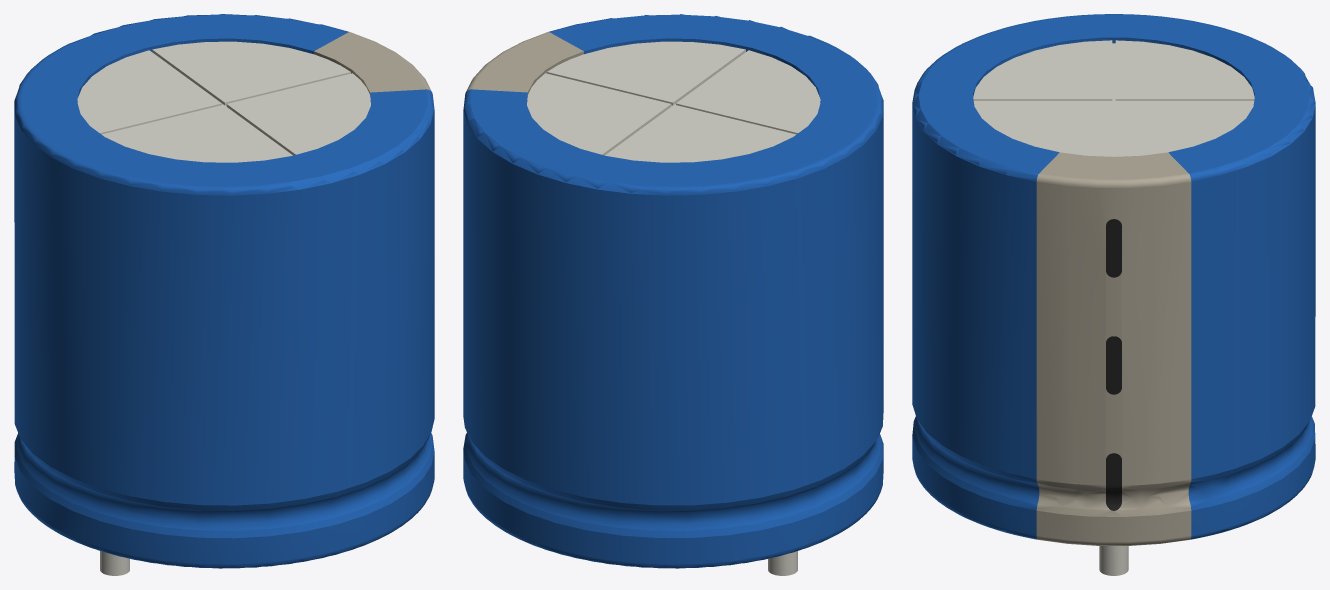
The model's file is kc-cp_radial_d12.5mm_p7.50mm.glb.
The picture shows the model from 3 angles, left to right: view 1: azimuth 30°, elevation 25°; view 2: azimuth 150°, elevation 25°; view 3: azimuth 270°, elevation 25°; orthographic projection. The views are drawn at different scales.
Visible parts, largest first — view 1: 0_0.16666666666666666_0.5_0, 0.6666666666666666_0.6666666666666666_0.5833333333333334_0.8, 0.4166666666666667_0.4166666666666667_0.3333333333333333_0; view 2: 0_0.16666666666666666_0.5_0, 0.6666666666666666_0.6666666666666666_0.5833333333333334_0.8, 0.4166666666666667_0.4166666666666667_0.3333333333333333_0; view 3: 0_0.16666666666666666_0.5_0, 0.4166666666666667_0.4166666666666667_0.3333333333333333_0, 0.6666666666666666_0.6666666666666666_0.5833333333333334_0.8, 0_0_0_0.
Boxes of the visible parts, x1=… form: 0_0.16666666666666666_0.5_0: x1=14, y1=14, x2=434, y2=568; 0.6666666666666666_0.6666666666666666_0.5833333333333334_0.8: x1=77, y1=41, x2=370, y2=575; 0.4166666666666667_0.4166666666666667_0.3333333333333333_0: x1=314, y1=32, x2=431, y2=94; 0_0.16666666666666666_0.5_0: x1=463, y1=14, x2=883, y2=568; 0.6666666666666666_0.6666666666666666_0.5833333333333334_0.8: x1=527, y1=41, x2=820, y2=575; 0.4166666666666667_0.4166666666666667_0.3333333333333333_0: x1=466, y1=32, x2=583, y2=94; 0_0.16666666666666666_0.5_0: x1=912, y1=14, x2=1315, y2=539; 0.4166666666666667_0.4166666666666667_0.3333333333333333_0: x1=1036, y1=152, x2=1191, y2=545; 0.6666666666666666_0.6666666666666666_0.5833333333333334_0.8: x1=973, y1=40, x2=1254, y2=575; 0_0_0_0: x1=1106, y1=219, x2=1121, y2=510.
Size of the model in its own units: 1.25 by 1.45 by 1.25.
